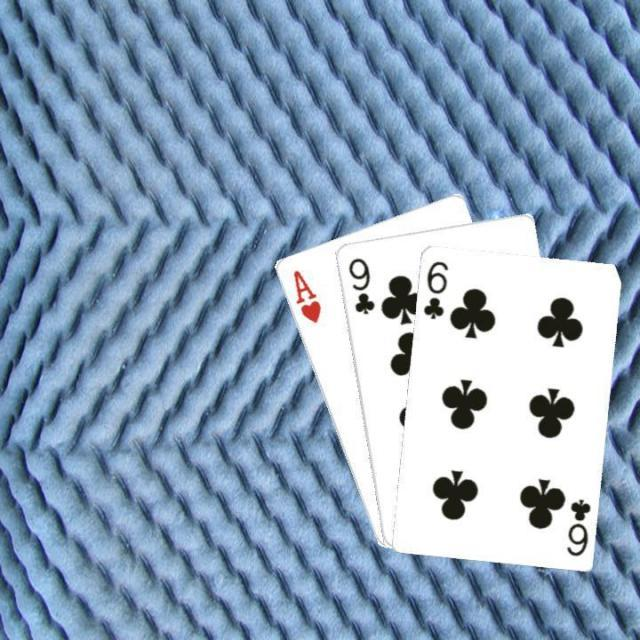6C: (418, 256, 449, 320), (562, 494, 592, 558)
9C: (343, 254, 376, 316)
AH: (288, 266, 323, 326)
